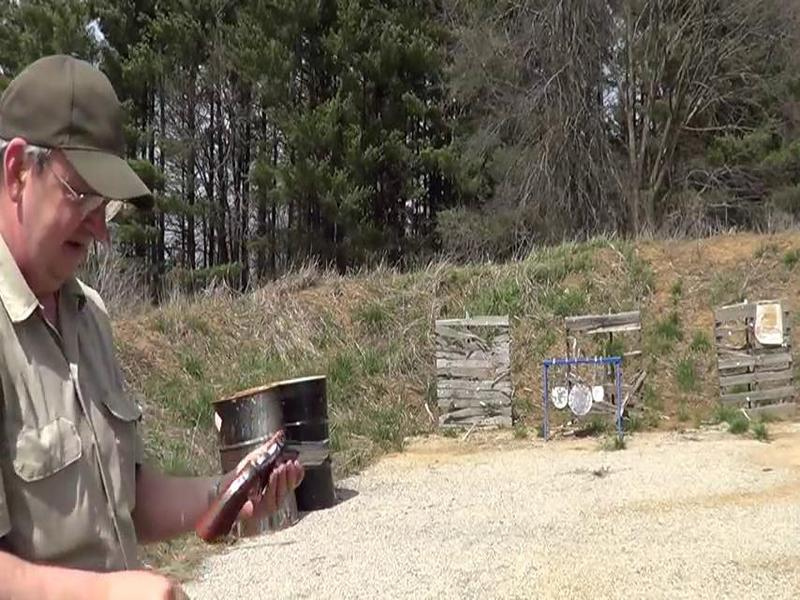Revolver: (177, 428, 315, 555)
